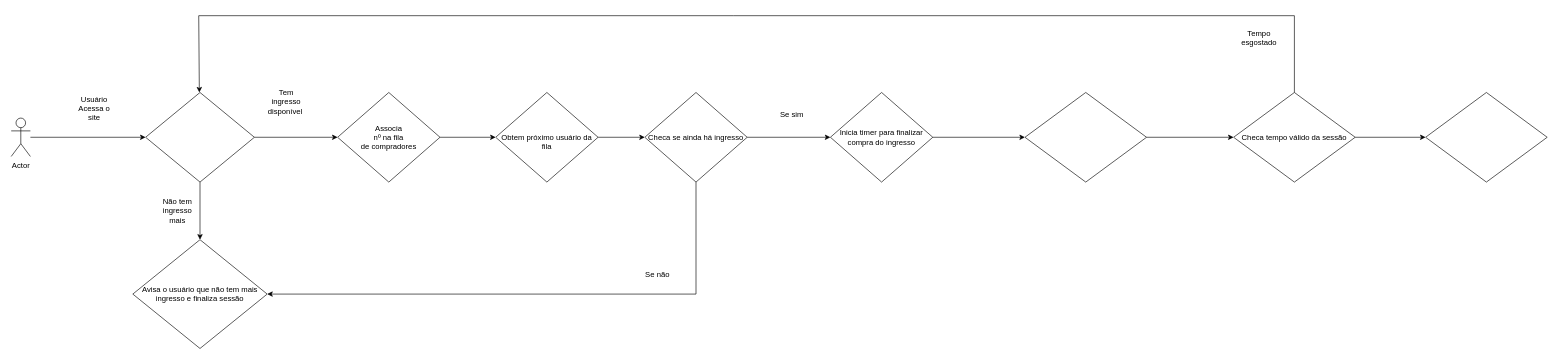
Some shapes in this 1558 by 360 pixel diagram are drawn without their labels. The shapes that lost their labels are listed below. From the top down, each one's centre as x and y in pixels, then its label:
[199,137]: Checa disponibilidade de ingressos
[1085,137]: Escolhe o tipo do ingresso
[1486,137]: Finaliza compra com sucesso
